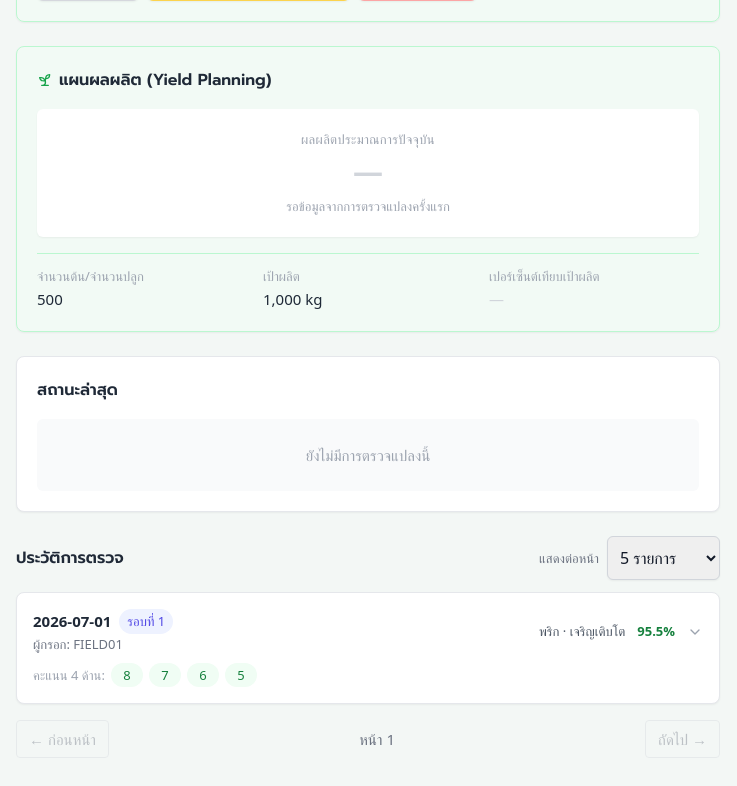
Test: PlotDetail — protocol snapshot labels (round 5.3) › expanded history row shows the Chiatai inspector label (round 8-11A)
(page scrolled)
Expected: the text "คะแนน 4 ด้าน:" is shown, x1=33 y1=665 x2=105 y2=685
Click the text "2026-07-01": [72, 621] box x1=33 y1=609 x2=111 y2=633
(page scrolled)
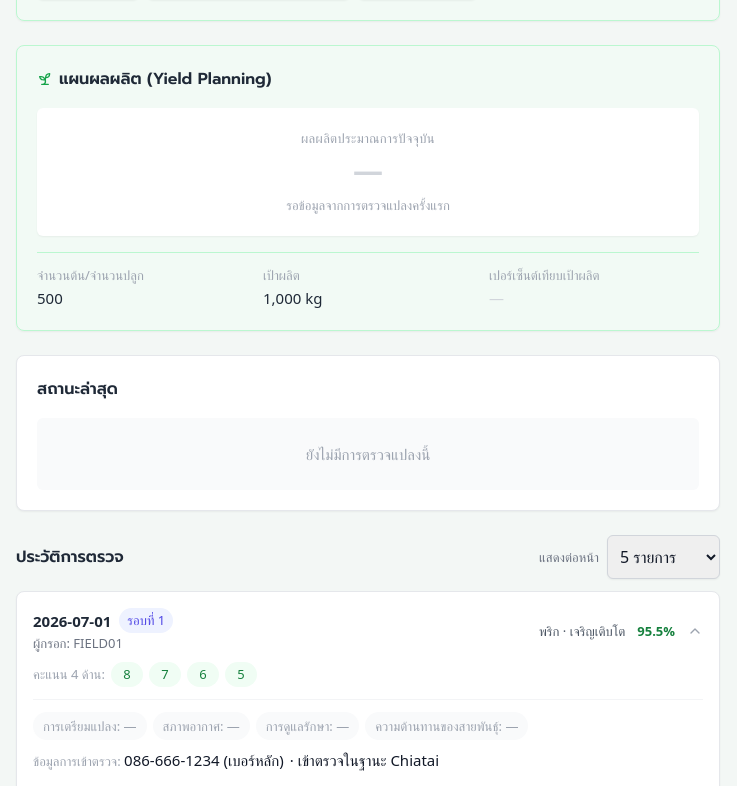
Expected: the text "· เข้าตรวจในฐานะ Chiatai" is shown, x1=290 y1=750 x2=439 y2=770
